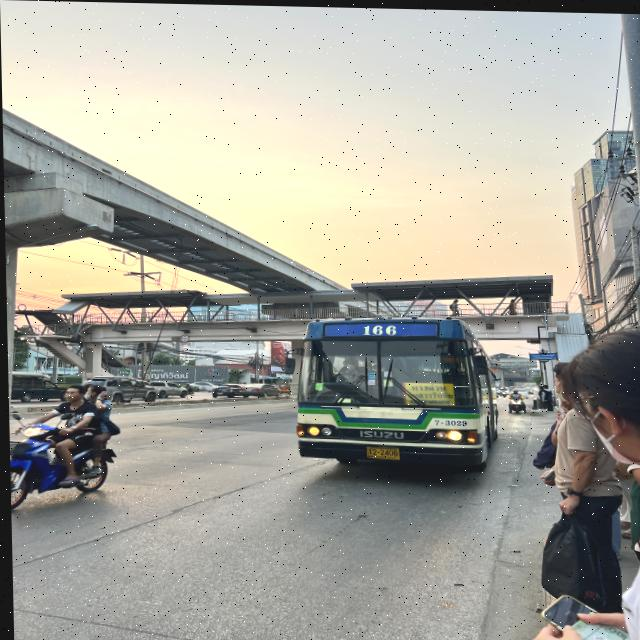BMTA-bus: (289, 314, 496, 472)
Bus-Line-Number: (354, 320, 402, 336)
Destination-Sign-Normal-Expressway: (403, 380, 452, 404)
